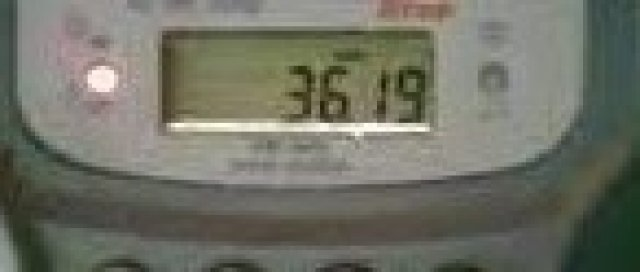box: (163, 32, 433, 127)
